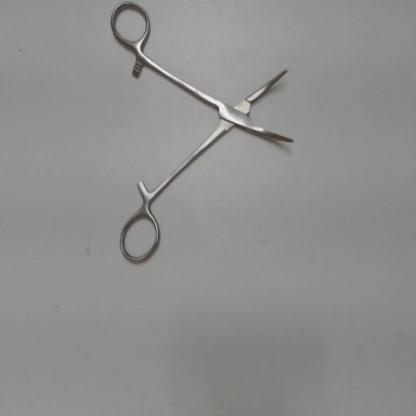Crile Artery Forceps: (107, 0, 300, 270)
